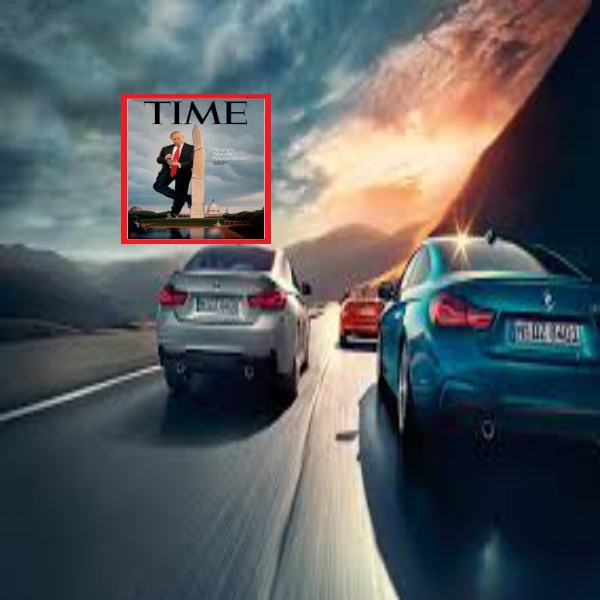time_cover: (114, 87, 271, 251)
